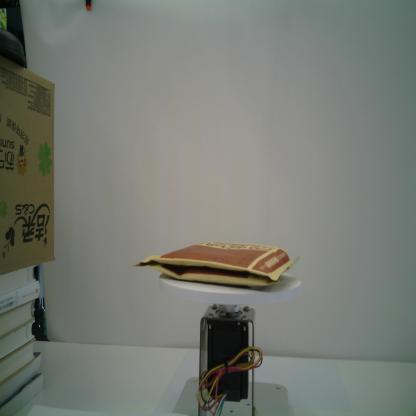Dried Food: (127, 239, 304, 290)
